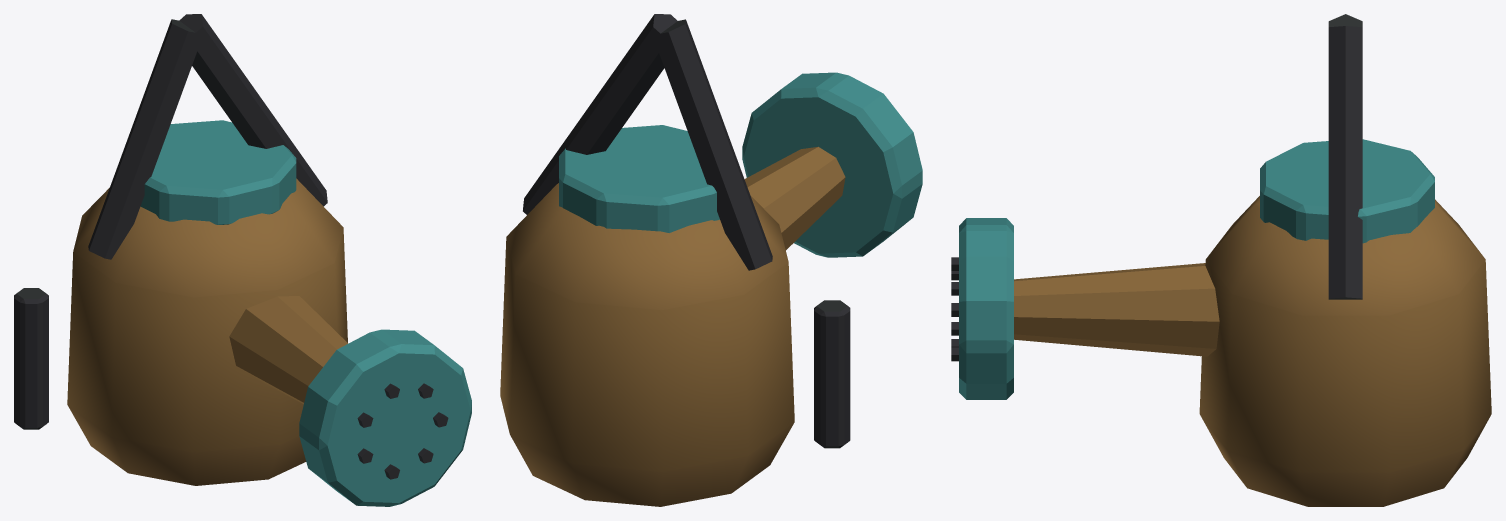
File: tool_watering_can_copper_rose_a.glb
The picture shows the model from 3 angles, left to right: view 1: azimuth 30°, elevation 25°; view 2: azimuth 150°, elevation 25°; view 3: azimuth 270°, elevation 25°; orthographic projection. The views are drawn at different scales.
Visible parts, largest first — view 1: equipment_can_body, equipment_can_lid, copper_rose_hole_0; view 2: equipment_can_body, equipment_can_lid, copper_rose_hole_0; view 3: equipment_can_body, equipment_can_lid, copper_rose_hole_0.
Part boxes in pixels (<box>): equipment_can_body: <box>67,178,347,485</box>; equipment_can_lid: <box>140,120,471,506</box>; copper_rose_hole_0: <box>14,14,448,479</box>; equipment_can_body: <box>500,146,845,506</box>; equipment_can_lid: <box>559,72,922,257</box>; copper_rose_hole_0: <box>523,14,850,448</box>; equipment_can_body: <box>1014,196,1491,506</box>; equipment_can_lid: <box>959,139,1434,399</box>; copper_rose_hole_0: <box>951,14,1362,361</box>.
Size of the model in its own units: 0.298 by 0.3885 by 0.444.
